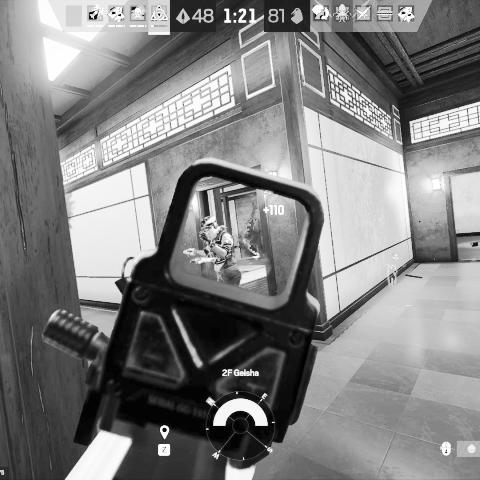Character: (182, 214, 243, 289)
Friend_label: (384, 252, 406, 269)
Head: (200, 215, 219, 236)
